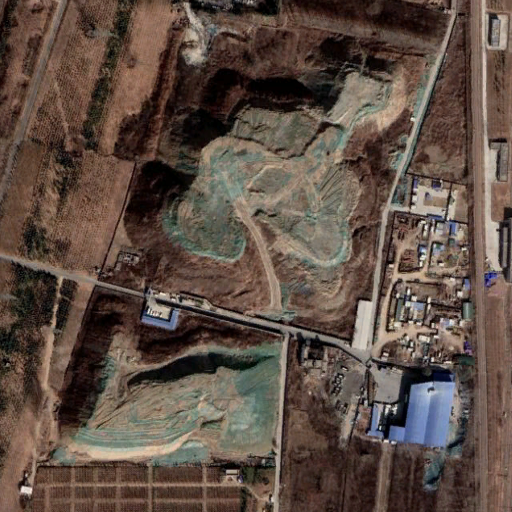cw: (160, 69, 400, 273), (51, 347, 281, 461)
